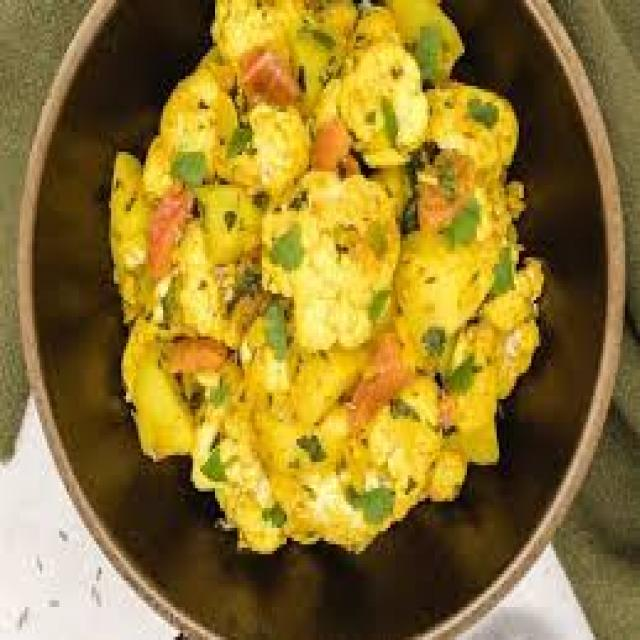Aloo Gobi: (102, 0, 552, 560)
